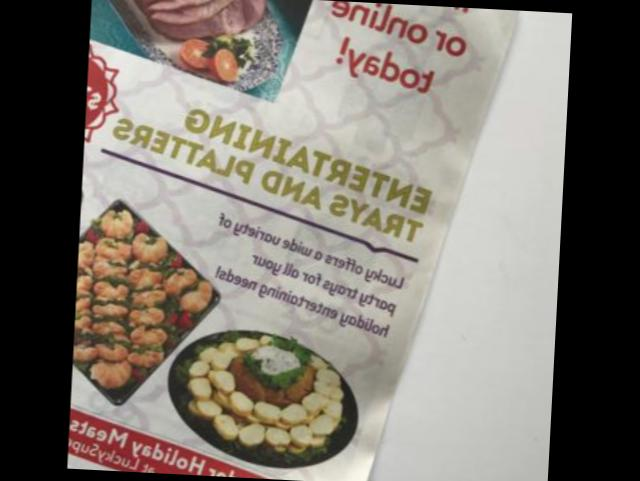cardboard paper: (67, 0, 515, 481)
